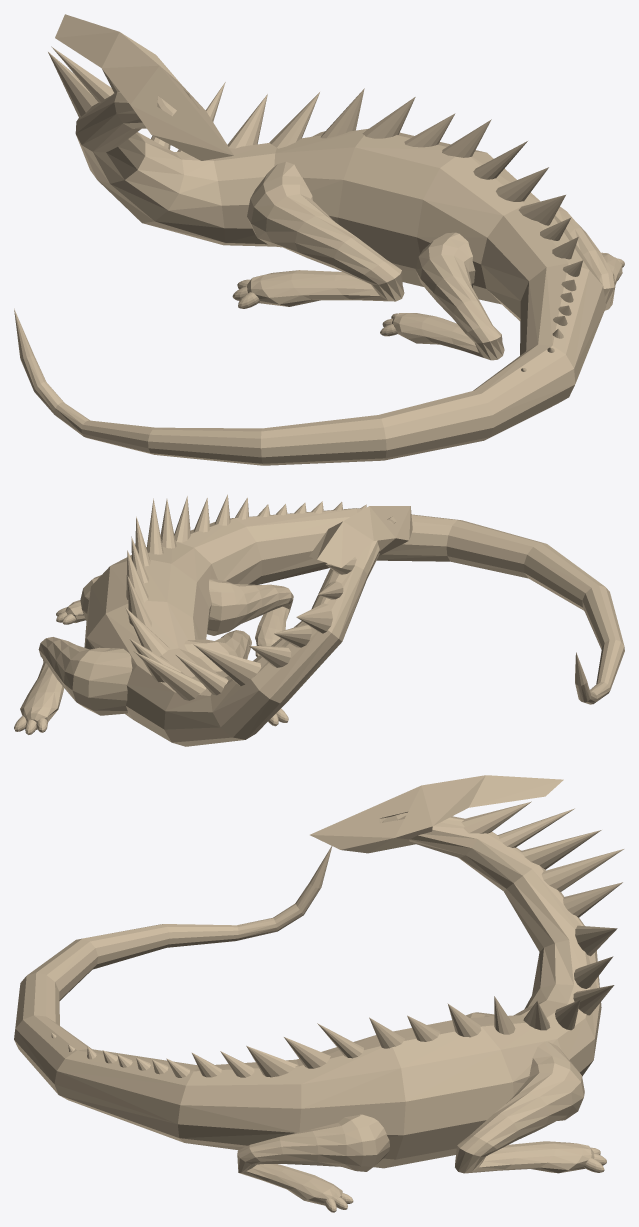
Rendered from zhulong.glb.
The picture shows the model from 3 angles, top to bottom: view 1: azimuth 30°, elevation 25°; view 2: azimuth 150°, elevation 25°; view 3: azimuth 270°, elevation 25°; orthographic projection. The views are drawn at different scales.
Visible parts, largest first — view 1: group791553109; view 2: group791553109; view 3: group791553109.
Part boxes in pixels (x1,y1,x2,y2): group791553109: (14, 14, 624, 465); group791553109: (14, 494, 624, 746); group791553109: (14, 775, 623, 1212).
Size of the model in its own units: 2.02 by 0.9036 by 1.91.
